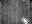person: (22, 17, 28, 23)
